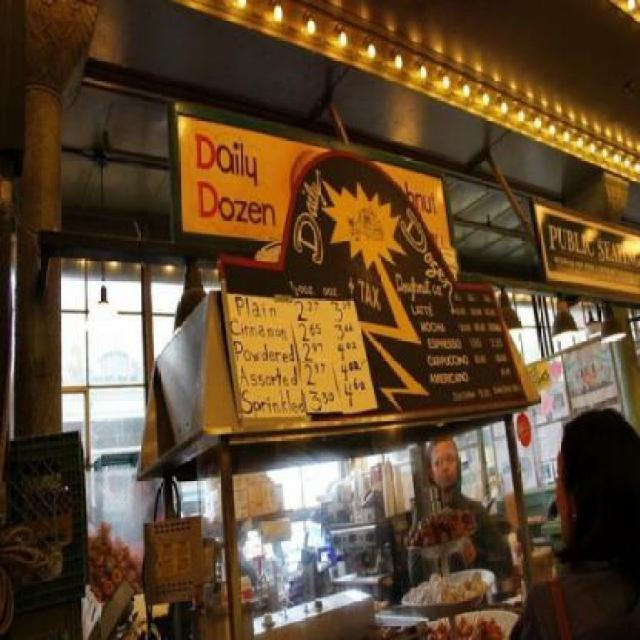Donuts: (406, 510, 512, 639)
